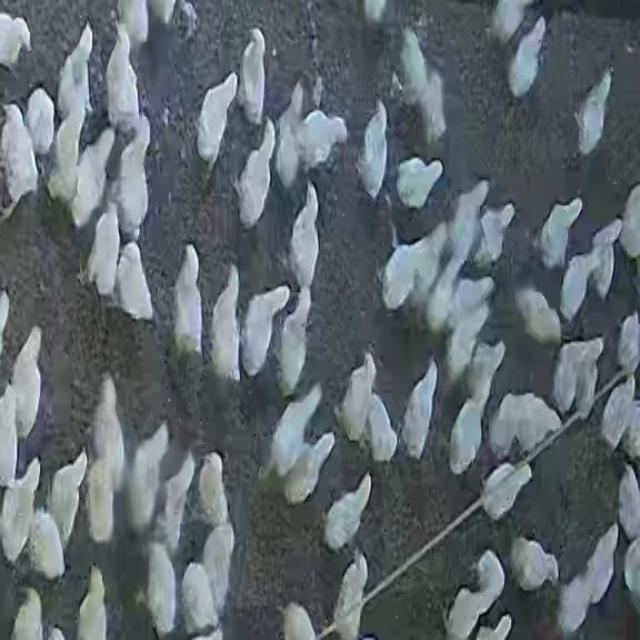chicken: (444, 552, 506, 638), (239, 279, 288, 382), (558, 232, 613, 321), (131, 422, 172, 538), (1, 101, 41, 219), (115, 118, 153, 235), (273, 386, 320, 480), (236, 120, 276, 230), (442, 180, 491, 269), (52, 100, 90, 214), (10, 326, 44, 444), (70, 131, 111, 228), (274, 84, 310, 194), (105, 22, 142, 128), (324, 471, 372, 552), (402, 358, 440, 459), (172, 244, 205, 359), (288, 180, 322, 290), (5, 459, 42, 559), (210, 263, 242, 378), (49, 452, 88, 546), (283, 435, 334, 506), (163, 443, 198, 543), (58, 23, 94, 120), (199, 73, 236, 166), (446, 302, 490, 379), (538, 198, 584, 270), (509, 14, 549, 94), (577, 70, 613, 158), (91, 375, 122, 476), (116, 242, 155, 322), (87, 208, 122, 297), (340, 349, 374, 440), (145, 543, 179, 633), (483, 459, 533, 520), (358, 101, 388, 202), (293, 111, 348, 166), (427, 240, 462, 326), (284, 285, 312, 392), (202, 524, 236, 610), (452, 392, 488, 473), (515, 287, 564, 346), (600, 377, 636, 455), (83, 450, 113, 543), (239, 26, 268, 120), (586, 523, 619, 605), (337, 550, 369, 634), (399, 25, 433, 102), (29, 511, 66, 581), (382, 238, 419, 308), (409, 217, 440, 300), (573, 338, 604, 420), (512, 536, 558, 591), (397, 156, 444, 209), (476, 202, 516, 264), (470, 336, 507, 403), (416, 72, 448, 145), (198, 451, 229, 526), (366, 396, 398, 466), (553, 336, 582, 410), (26, 88, 56, 157), (557, 572, 590, 634), (77, 573, 107, 638), (449, 271, 491, 313), (1, 387, 20, 479)
